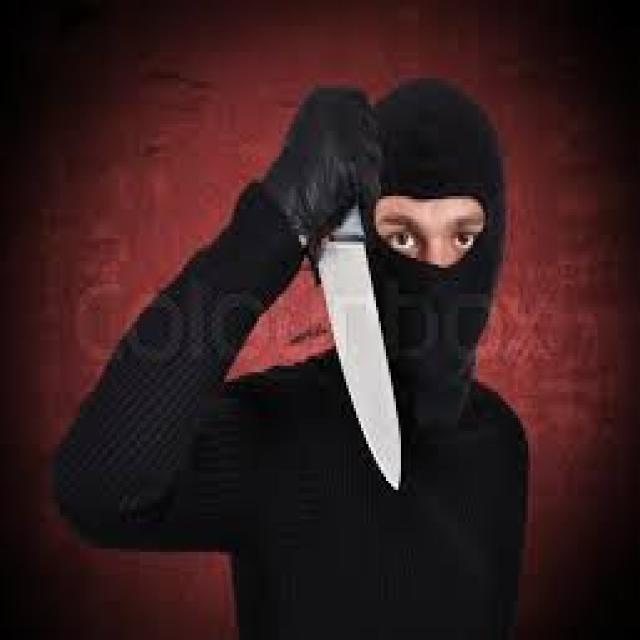faca: (274, 81, 414, 502)
